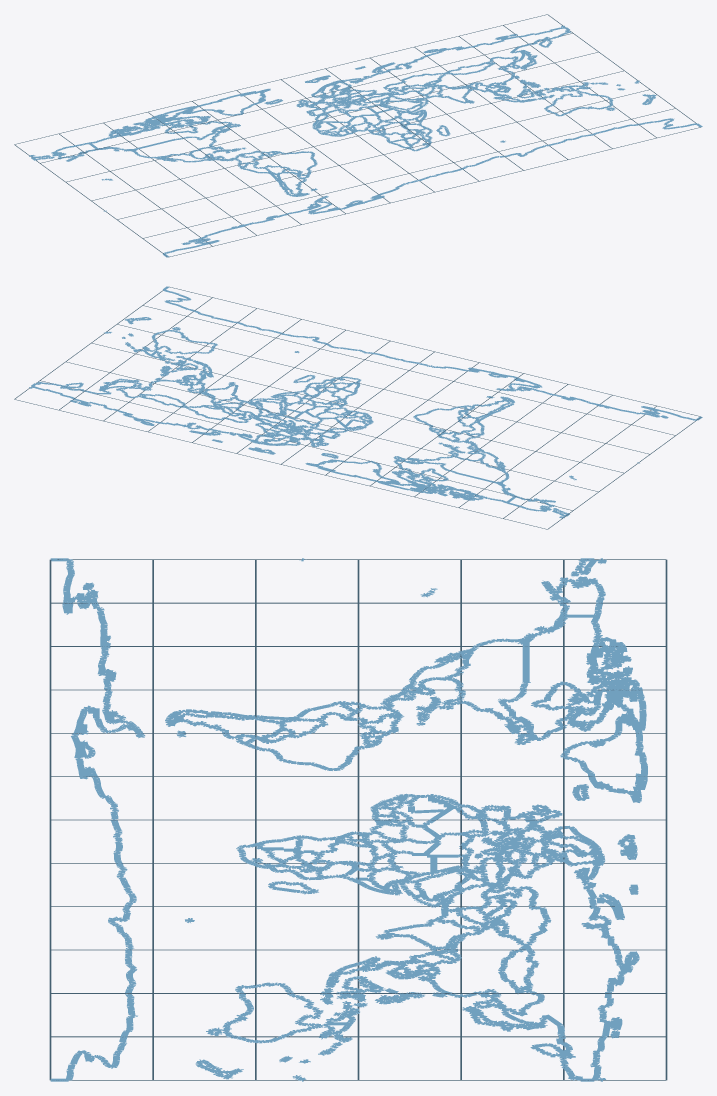
File: gis-world-boundaries.glb
3 renders of one model, top to bottom at view 1: azimuth 30°, elevation 25°; view 2: azimuth 150°, elevation 25°; view 3: azimuth 270°, elevation 25°, orthographic. The views are drawn at different scales.
Size of the model in its own units: 362 by 0 by 180.
